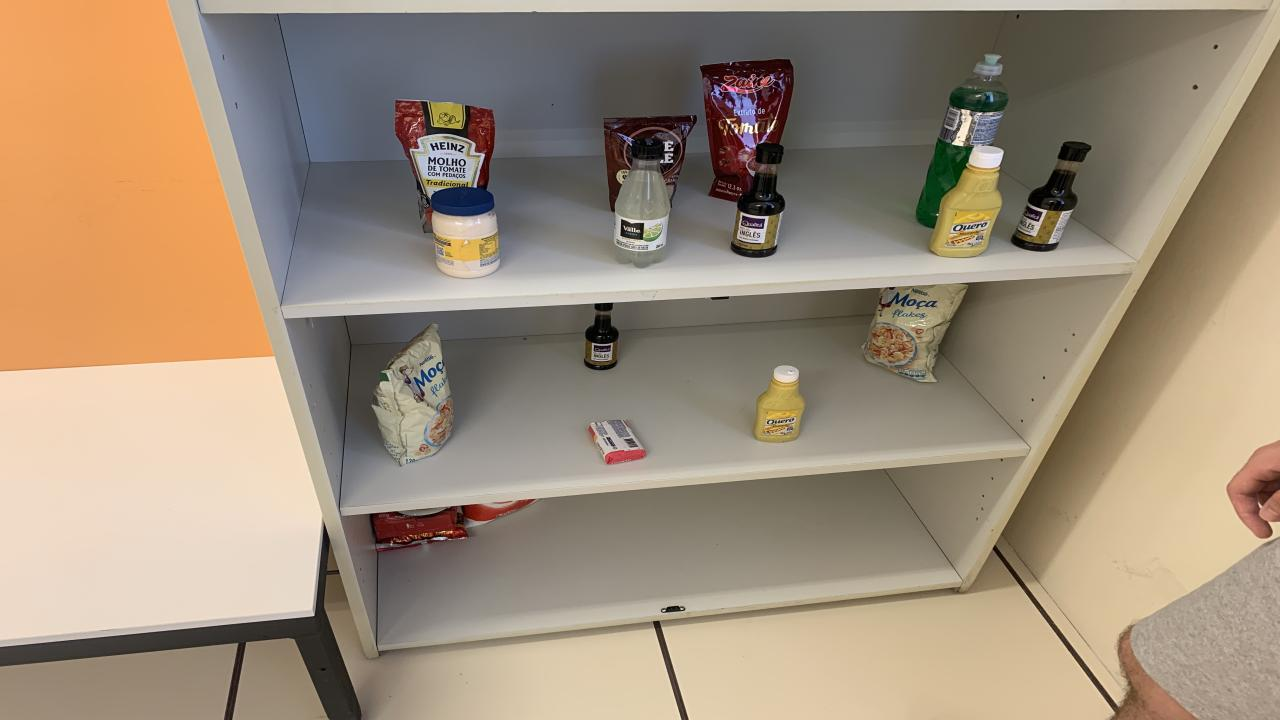Coffee-Pantry_Items: (605, 114, 698, 210)
Detergent-Cleanup_Items: (915, 52, 1008, 227)
English_Sauce-Pantry_Items: (1010, 142, 1090, 251), (730, 142, 785, 257), (585, 302, 620, 369)
Flakes-Snacks: (370, 324, 452, 465), (862, 285, 968, 382)
Mayonnaise-Pantry_Items: (430, 188, 500, 278)
Mustard-Pantry_Items: (930, 144, 1005, 257), (755, 366, 805, 442)
Soap-Cleanup_Items: (590, 420, 645, 465)
Soda-Drinks: (615, 137, 670, 268)
Tomato_Sauce-Pantry_Items: (700, 58, 792, 202), (395, 99, 495, 231)
